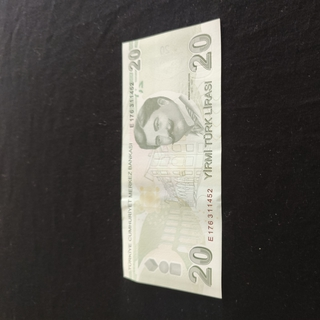20TLBack: (121, 17, 222, 299)
